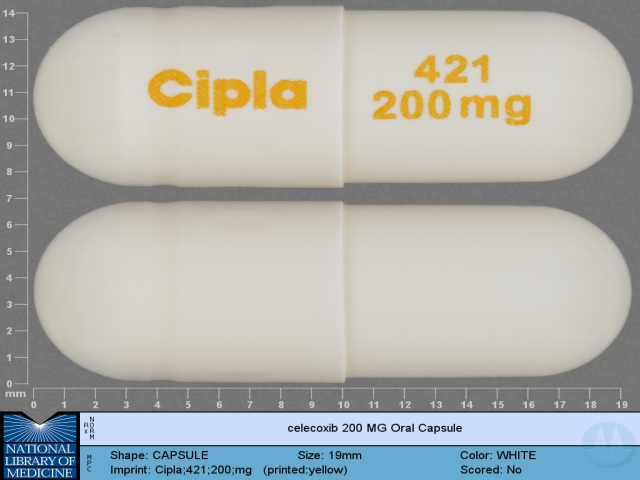capsule: (32, 2, 637, 192), (34, 200, 633, 386)
